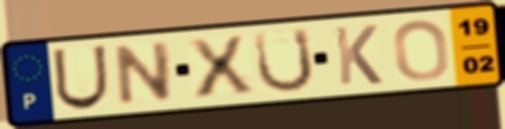K: (331, 23, 385, 87)
N: (113, 39, 175, 109)
O: (390, 17, 452, 83)
U: (251, 25, 317, 96), (50, 43, 111, 113)
X: (184, 33, 258, 101)
